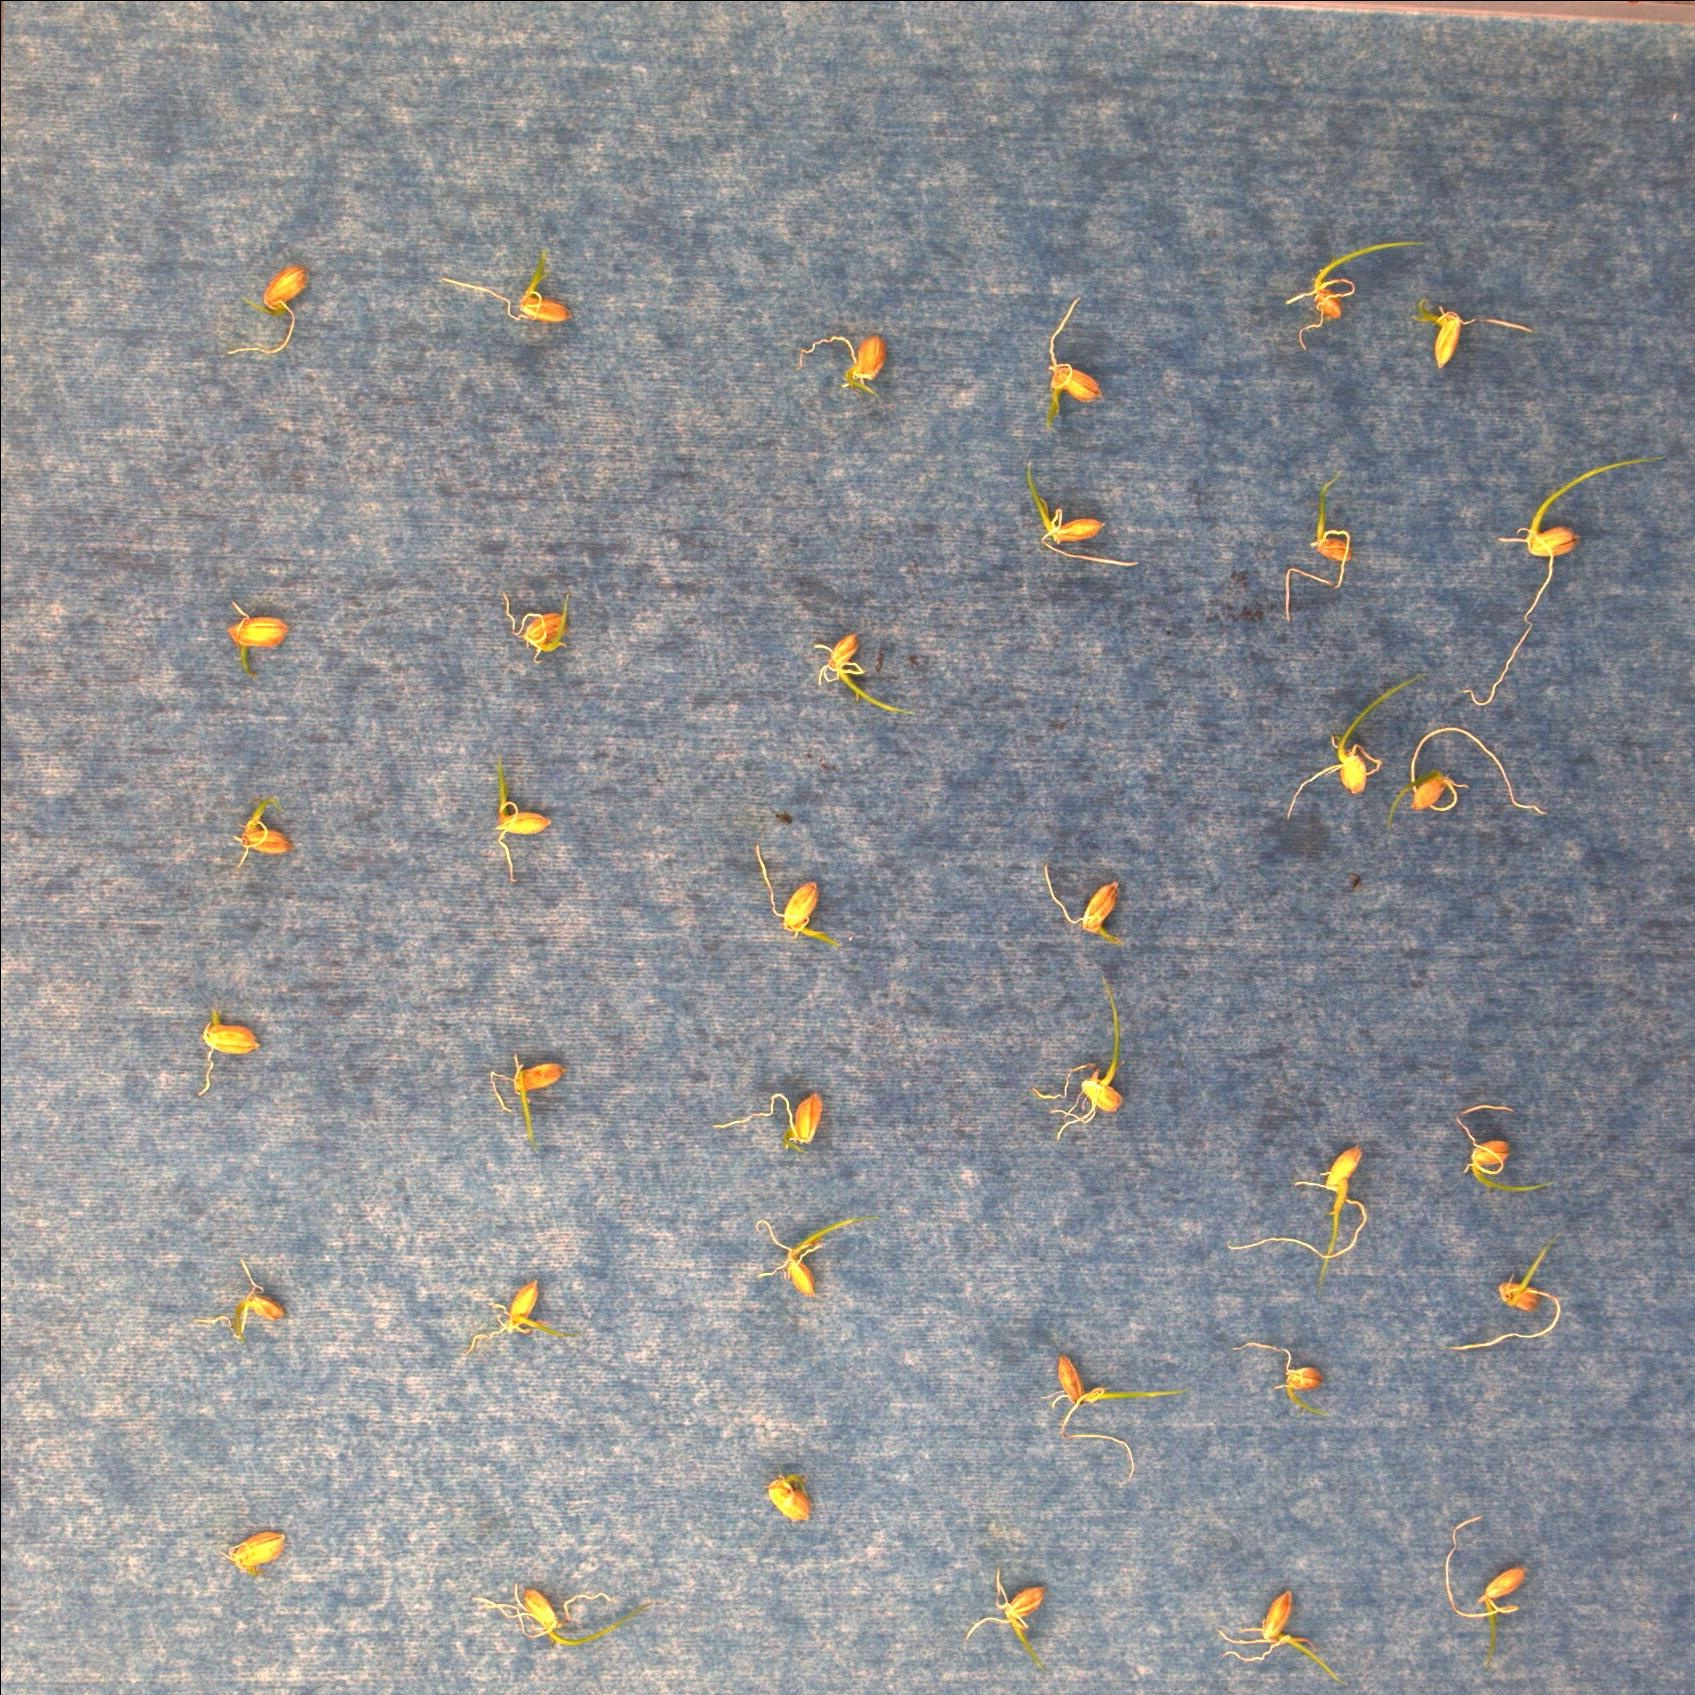not sprout: (230, 262, 306, 359), (708, 1088, 826, 1149), (194, 1000, 261, 1104), (211, 1527, 287, 1577), (764, 1475, 812, 1527)
sprout: (1458, 456, 1655, 712), (1284, 677, 1423, 824), (1042, 1355, 1186, 1489), (1225, 1150, 1369, 1279), (1281, 241, 1433, 345), (1028, 976, 1128, 1130), (1445, 1515, 1530, 1679), (1391, 730, 1544, 820), (1447, 1242, 1563, 1357), (1217, 1583, 1346, 1683), (470, 1582, 657, 1645), (1448, 1099, 1569, 1197), (1024, 463, 1133, 570), (1279, 481, 1354, 629), (754, 844, 847, 962), (962, 1563, 1055, 1679), (751, 1212, 868, 1301), (438, 251, 574, 326), (200, 1225, 289, 1336), (1042, 301, 1110, 435), (469, 1279, 582, 1355), (486, 1046, 570, 1149), (489, 759, 554, 889), (1236, 1340, 1335, 1425), (795, 334, 889, 407), (1043, 868, 1125, 951), (812, 636, 897, 716), (1412, 307, 1537, 362), (224, 588, 287, 675), (220, 802, 286, 882), (498, 587, 573, 653)
